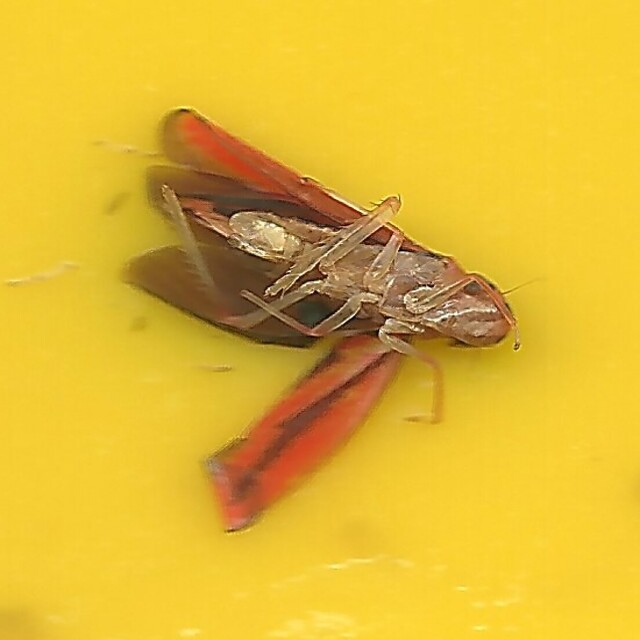Hemiptera: (116, 100, 524, 540)
